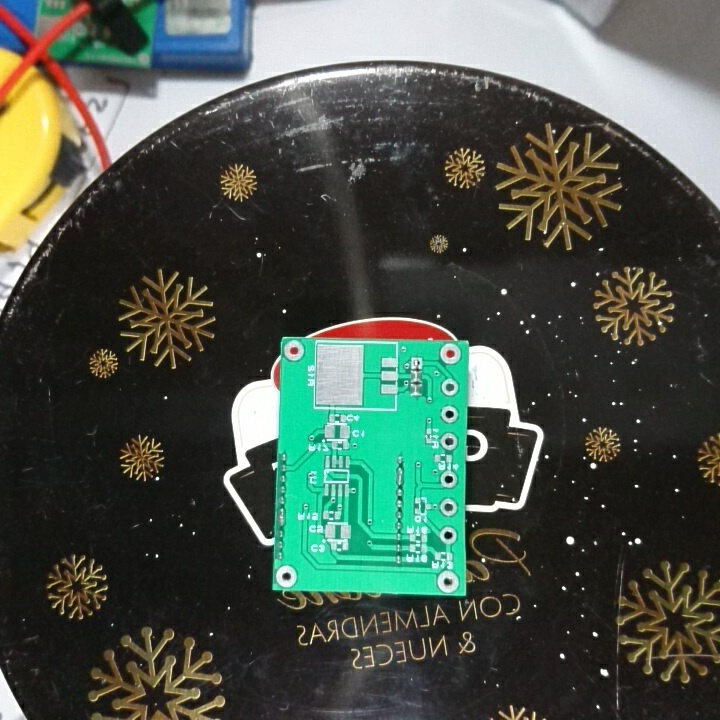F: (274, 563, 300, 589), (280, 338, 306, 363), (434, 569, 459, 595), (439, 343, 463, 368), (437, 524, 460, 547), (436, 404, 460, 426), (438, 428, 460, 452), (438, 496, 459, 520), (438, 377, 461, 398), (439, 469, 460, 492), (407, 355, 427, 372)
P: (276, 506, 290, 530), (394, 464, 407, 489)
